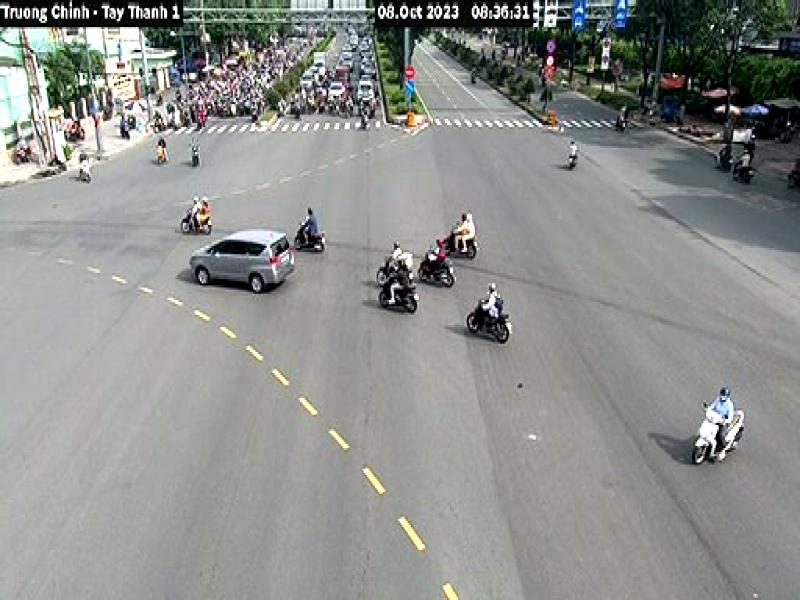car: (189, 231, 295, 297)
motorcycle: (696, 408, 742, 464), (380, 278, 422, 318)
